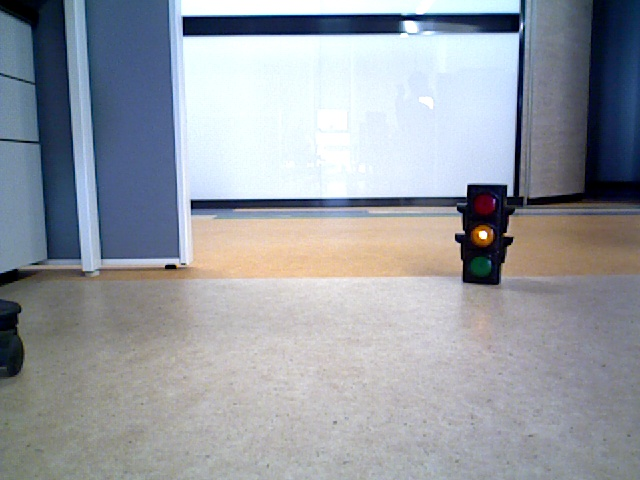yellow: (467, 184, 498, 282)
